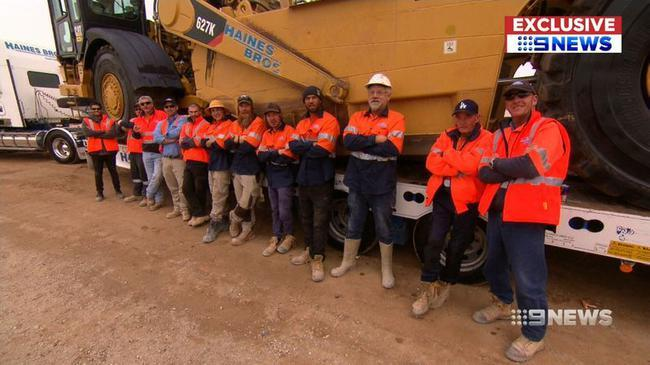helmet: (365, 72, 395, 91)
